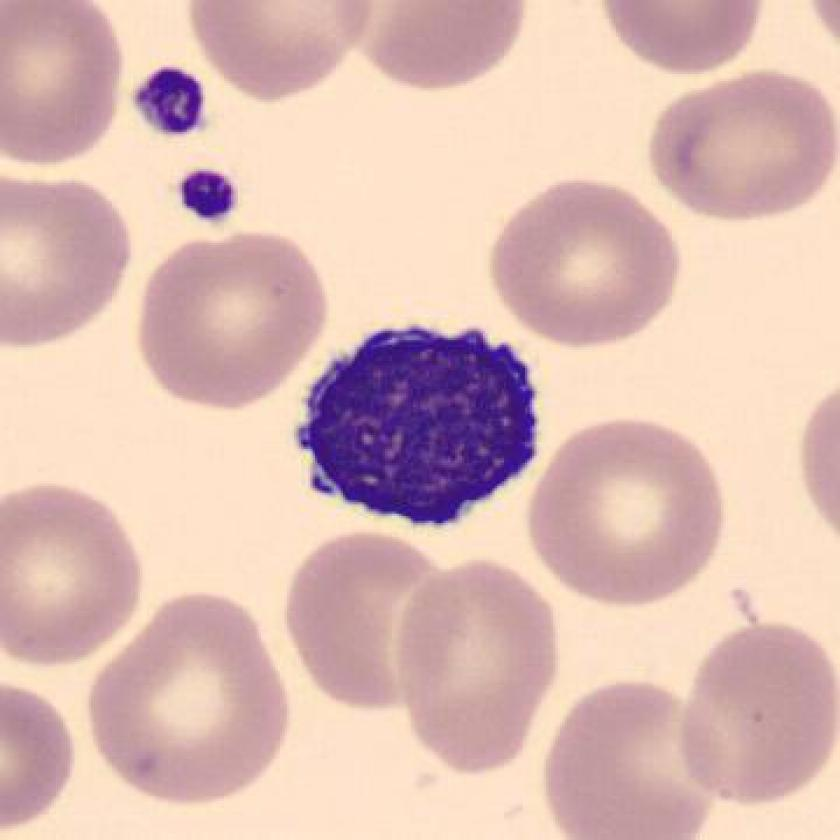lymphocyte: (274, 309, 563, 545)
